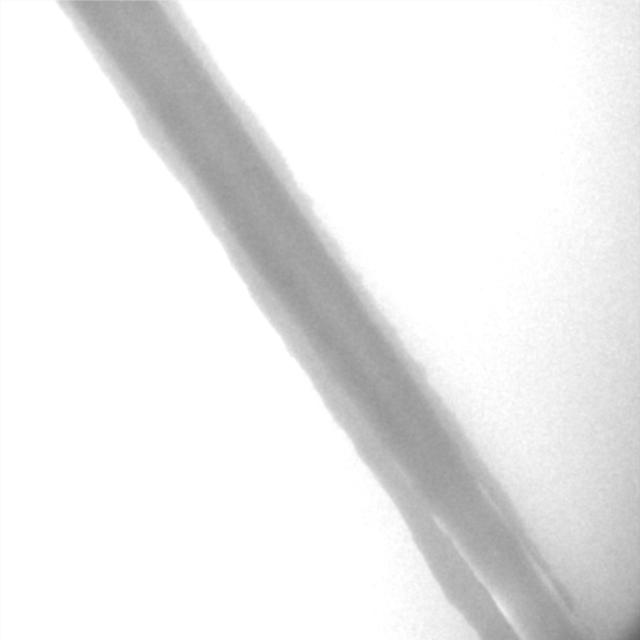unfused: (424, 498, 588, 640)
